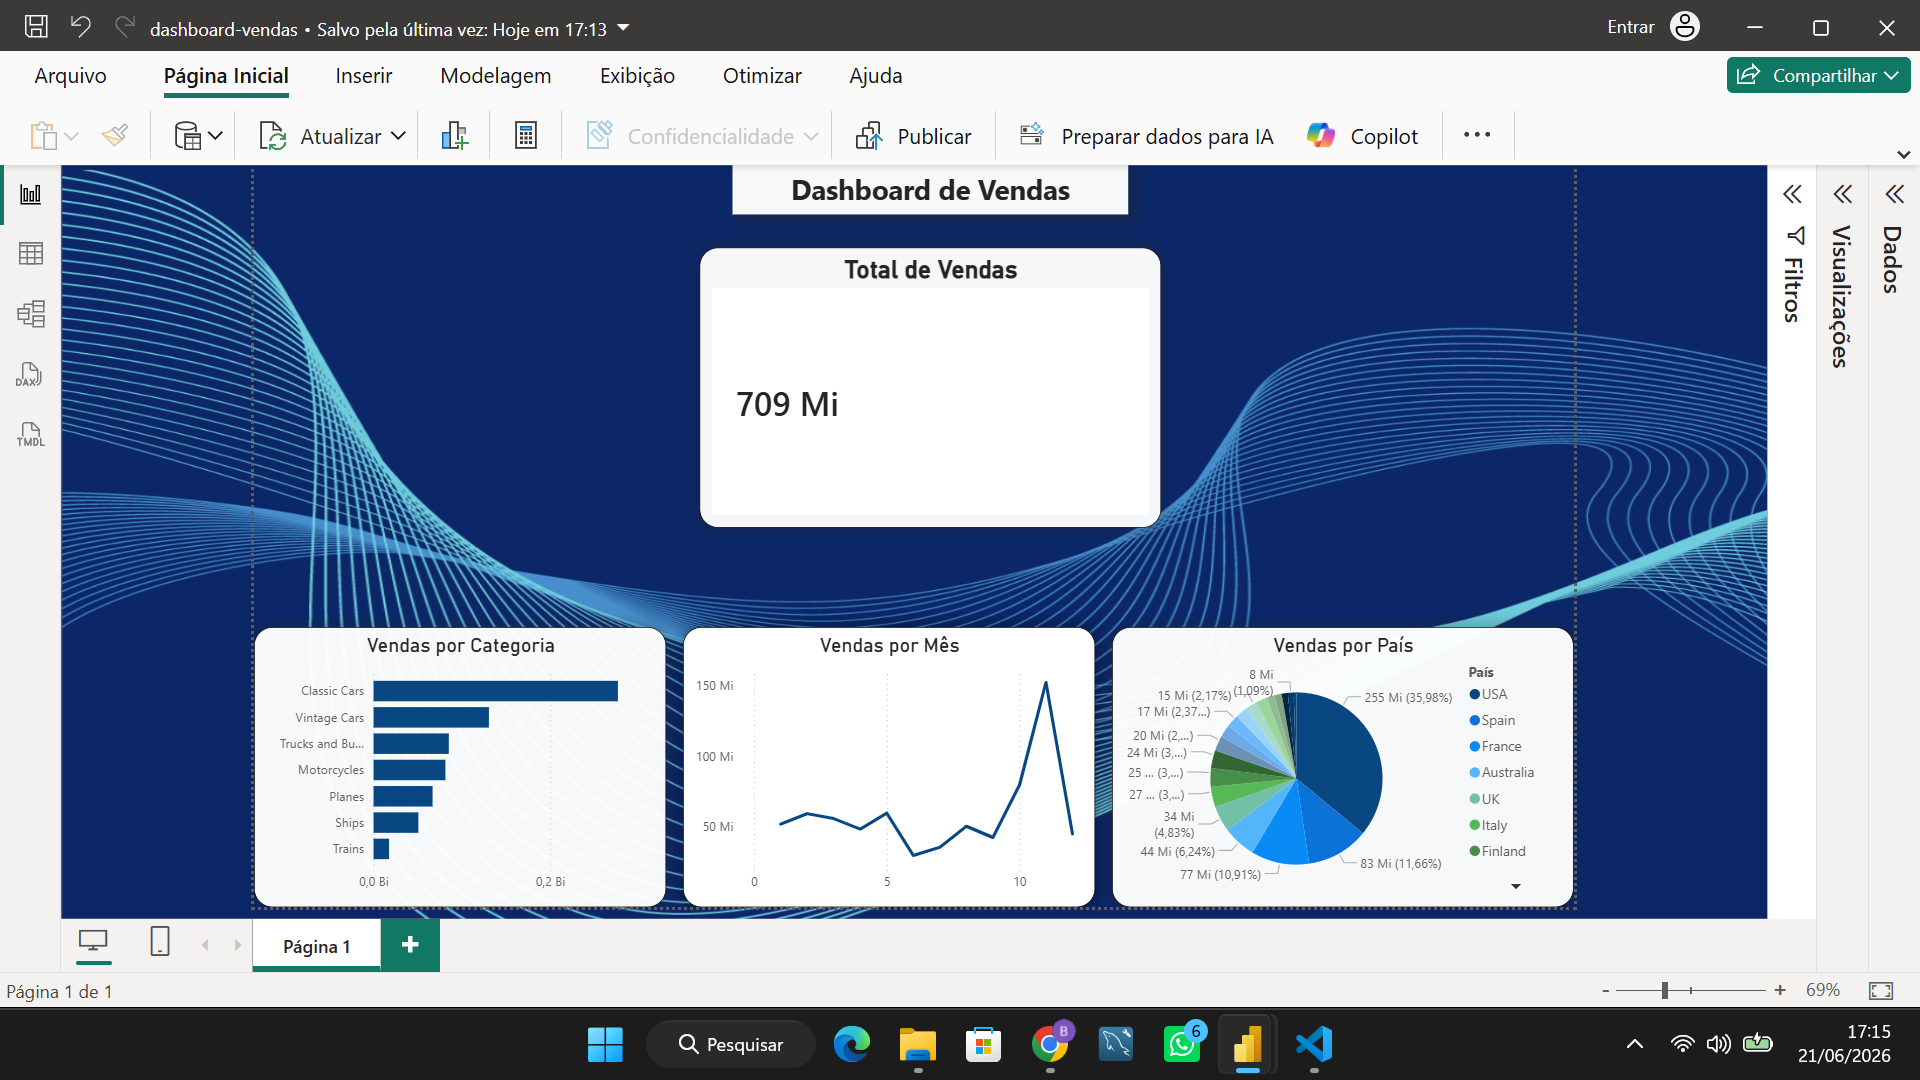

This screenshot's page, from the dashboard's own definition file:
{"tool":"powerbi","page":{"name":"Página 1","canvas":[1280,720],"ordinal":0},"visuals":[{"type":"cardVisual","title":"Total de Vendas","fields":{"Data":["Sum(sales_data_sample.SALES)"]},"box":[400,80,448,272],"z":0},{"type":"clusteredBarChart","fields":{"Category":["sales_data_sample.PRODUCTLINE"],"Y":["Sum(sales_data_sample.SALES)"]},"box":[0,448,400,272],"z":1000},{"type":"lineChart","fields":{"Category":["sales_data_sample.MONTH_ID"],"Y":["Sum(sales_data_sample.SALES)"]},"box":[416,448,400,272],"z":2000},{"type":"pieChart","fields":{"Category":["sales_data_sample.COUNTRY"],"Y":["Sum(sales_data_sample.SALES)"]},"box":[832,448,448,272],"z":3000},{"type":"textbox","box":[432,0,384,48],"z":4000}]}

Visuals, with their boxes on the page's 1280x720 design canvas (x1, y1, x2, y2). These are canvas units, not pixel positions in the 1920x1080 screenshot, which may show the page scaled, cropped or inside an application window:
"Total de Vendas" cardVisual: (x1=400, y1=80, x2=848, y2=352)
clusteredBarChart - sales_data_sample.PRODUCTLINE x Sum(sales_data_sample.SALES): (x1=0, y1=448, x2=400, y2=720)
lineChart - sales_data_sample.MONTH_ID x Sum(sales_data_sample.SALES): (x1=416, y1=448, x2=816, y2=720)
pieChart - sales_data_sample.COUNTRY x Sum(sales_data_sample.SALES): (x1=832, y1=448, x2=1280, y2=720)
textbox: (x1=432, y1=0, x2=816, y2=48)
